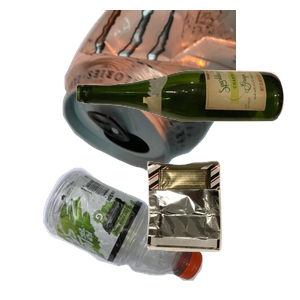glass: (74, 67, 300, 181)
metal: (60, 10, 300, 175)
plastic: (40, 165, 235, 300)
trash: (144, 158, 300, 300)
